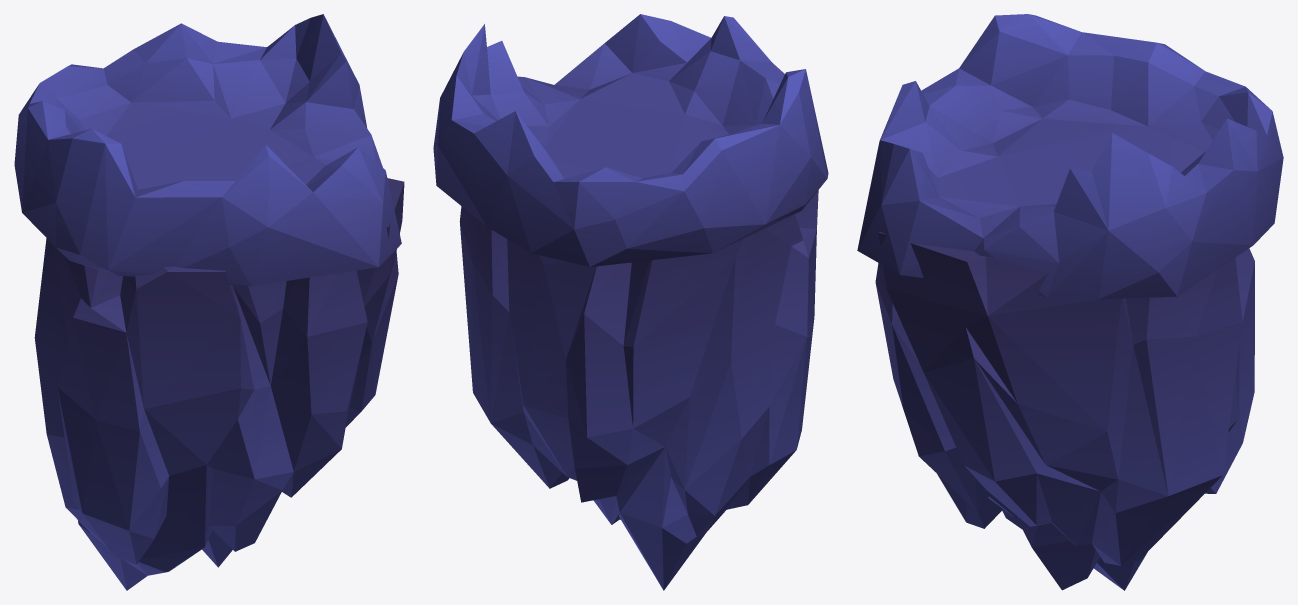
Rendered from Floating_Rock_02.fbx.
The picture shows the model from 3 angles, left to right: view 1: azimuth 30°, elevation 25°; view 2: azimuth 150°, elevation 25°; view 3: azimuth 270°, elevation 25°; orthographic projection. The views are drawn at different scales.
Parts seen in each view (by area): view 1: Merged_PM3D_rocks3.039; view 2: Merged_PM3D_rocks3.039; view 3: Merged_PM3D_rocks3.039.
Part boxes in pixels (x1,y1,x2,y2): Merged_PM3D_rocks3.039: [14, 14, 404, 590]; Merged_PM3D_rocks3.039: [433, 14, 828, 590]; Merged_PM3D_rocks3.039: [857, 14, 1283, 590].
Size of the model in its own units: 883 by 1342 by 935.
